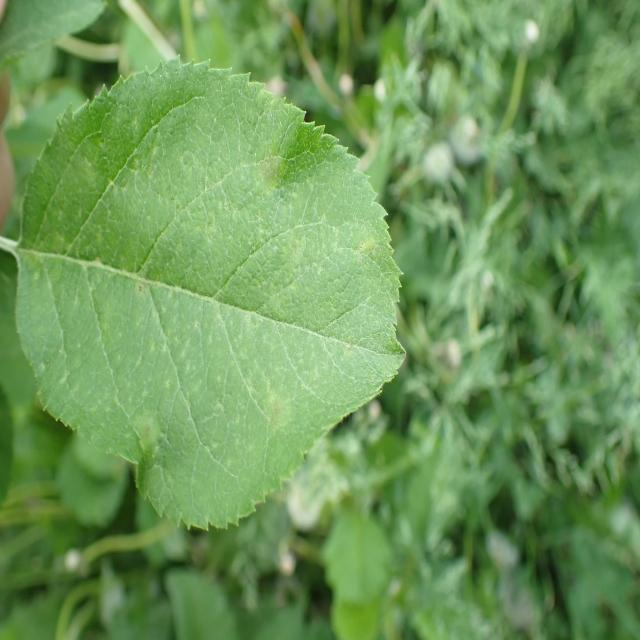scab: (30, 155, 405, 462)
